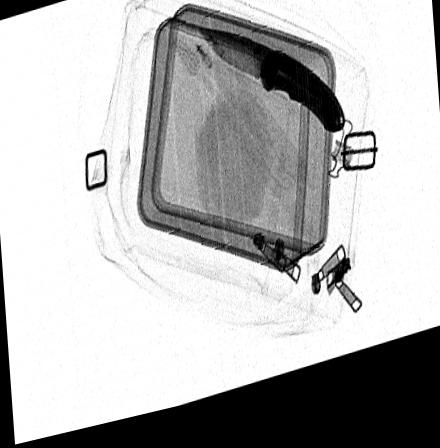Knife: (194, 35, 346, 149)
